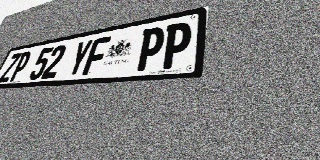2: (41, 44, 68, 79)
5: (28, 47, 54, 80)
F: (82, 36, 112, 76)
P: (159, 20, 193, 69), (134, 25, 167, 71), (8, 51, 33, 82)
Y: (65, 39, 94, 77)
Z: (0, 53, 22, 83)
